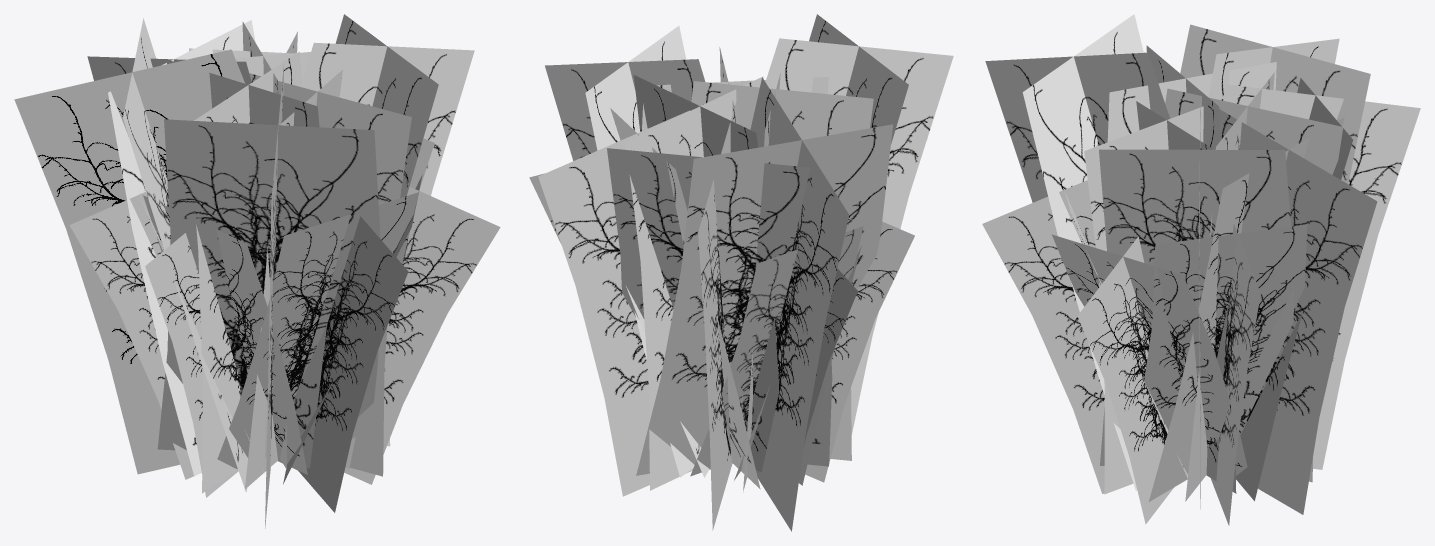
The model's file is Branch_2PNG_Dense_02_Tall.fbx.
The picture shows the model from 3 angles, left to right: view 1: azimuth 30°, elevation 25°; view 2: azimuth 150°, elevation 25°; view 3: azimuth 270°, elevation 25°; orthographic projection. The views are drawn at different scales.
Parts seen in each view (by area): view 1: Branch_2PNG_Dense_02_Tall.001; view 2: Branch_2PNG_Dense_02_Tall.001; view 3: Branch_2PNG_Dense_02_Tall.001.
Boxes of the visible parts, left/top/right/bottom form: Branch_2PNG_Dense_02_Tall.001: left=14, top=14, right=500, bottom=528; Branch_2PNG_Dense_02_Tall.001: left=529, top=14, right=953, bottom=531; Branch_2PNG_Dense_02_Tall.001: left=982, top=14, right=1420, bottom=525.
Size of the model in its own units: 180 by 197 by 182.
